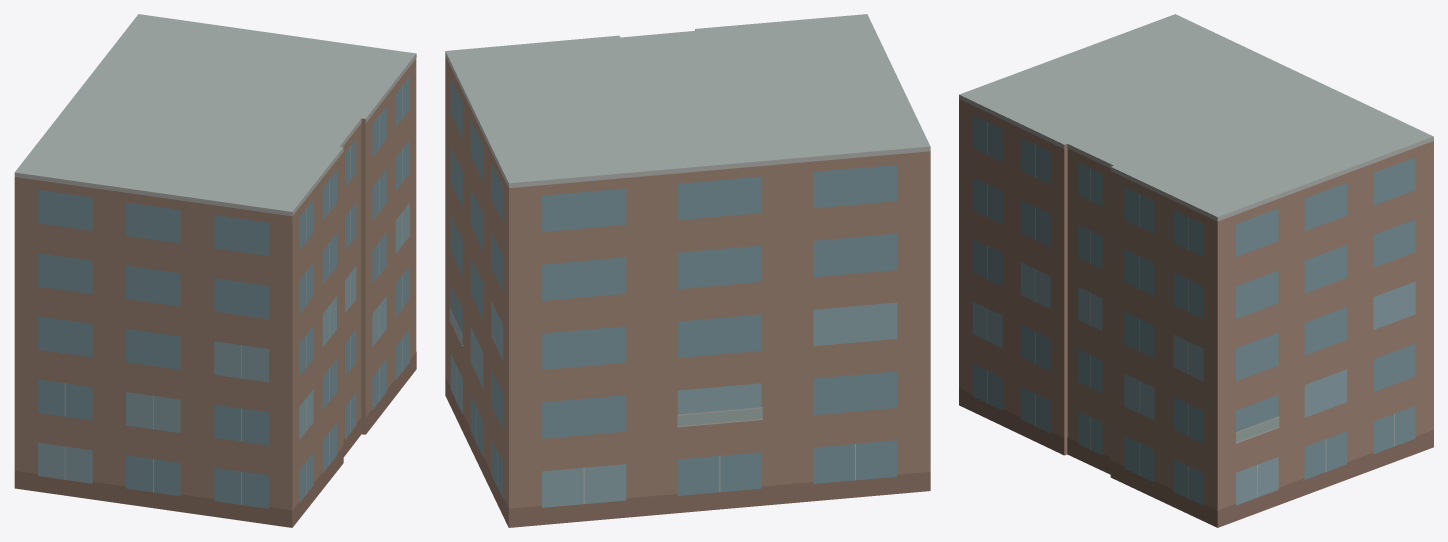
The model's file is survey-upis-32635161.glb.
3 views of the same model, side by side, from view 1: azimuth 30°, elevation 25°; view 2: azimuth 150°, elevation 25°; view 3: azimuth 270°, elevation 25° (orthographic). The views are drawn at different scales.
Parts seen in each view (by area): view 1: survey-upis-32635161.tmp; view 2: survey-upis-32635161.tmp; view 3: survey-upis-32635161.tmp.
Part boxes in pixels (box(x1,y1,x2,y2)): survey-upis-32635161.tmp: box(14, 14, 416, 527); survey-upis-32635161.tmp: box(445, 14, 930, 527); survey-upis-32635161.tmp: box(959, 14, 1433, 527).
Size of the model in its own units: 24.55 by 17.5 by 24.24.
